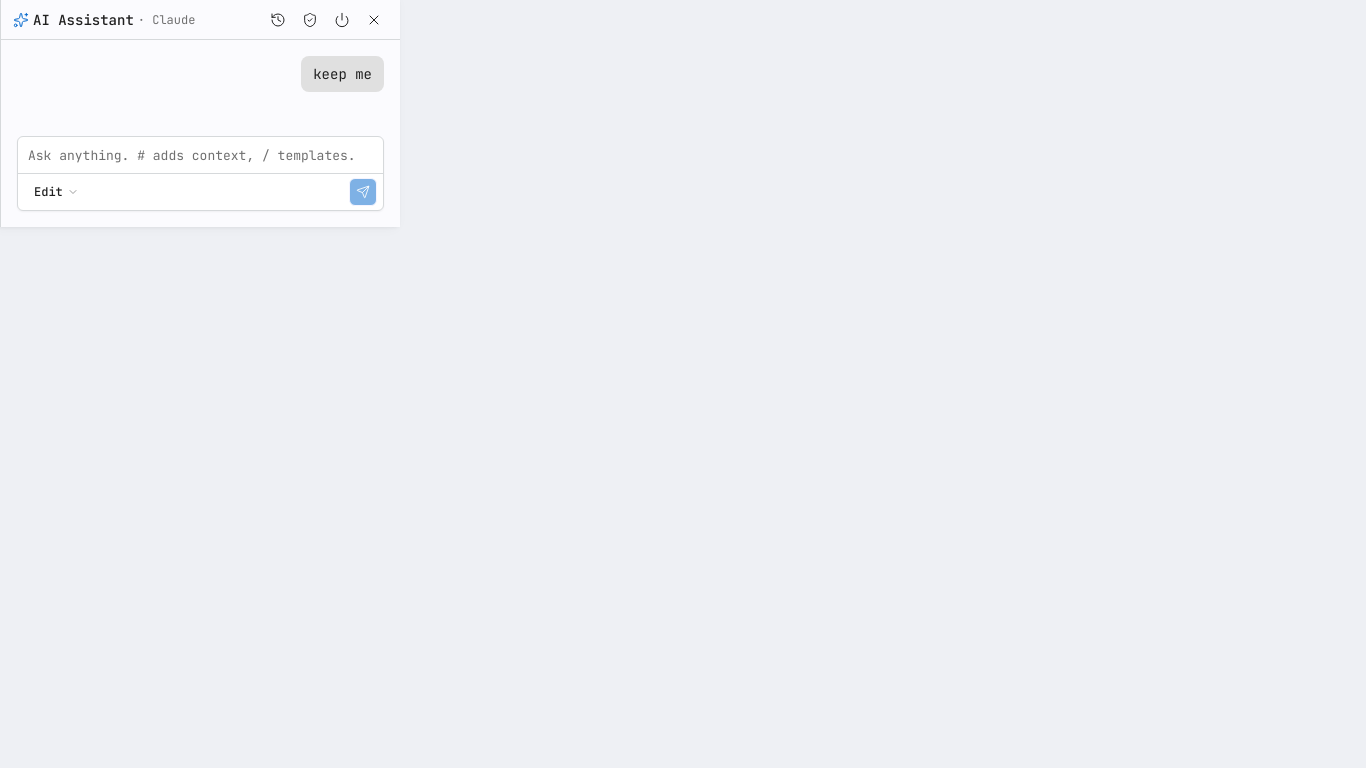
AssistantPanel › ends the session and keeps the transcript
Click the button named "End session": x=342, y=20 x1=328 y1=6 x2=356 y2=34
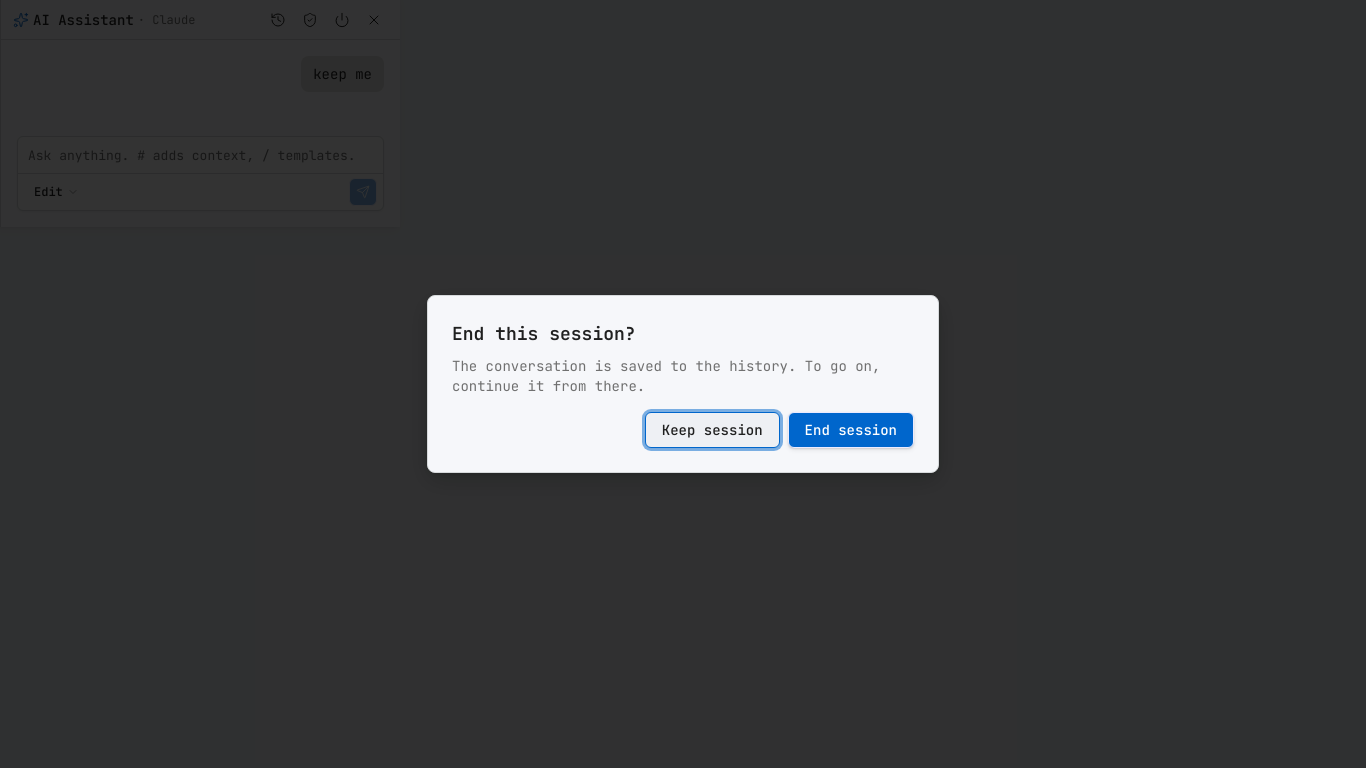
# The header button is hidden from the accessibility tree while the dialog is open.
Click the button "End session": x=851, y=430 x1=788 y1=412 x2=914 y2=448
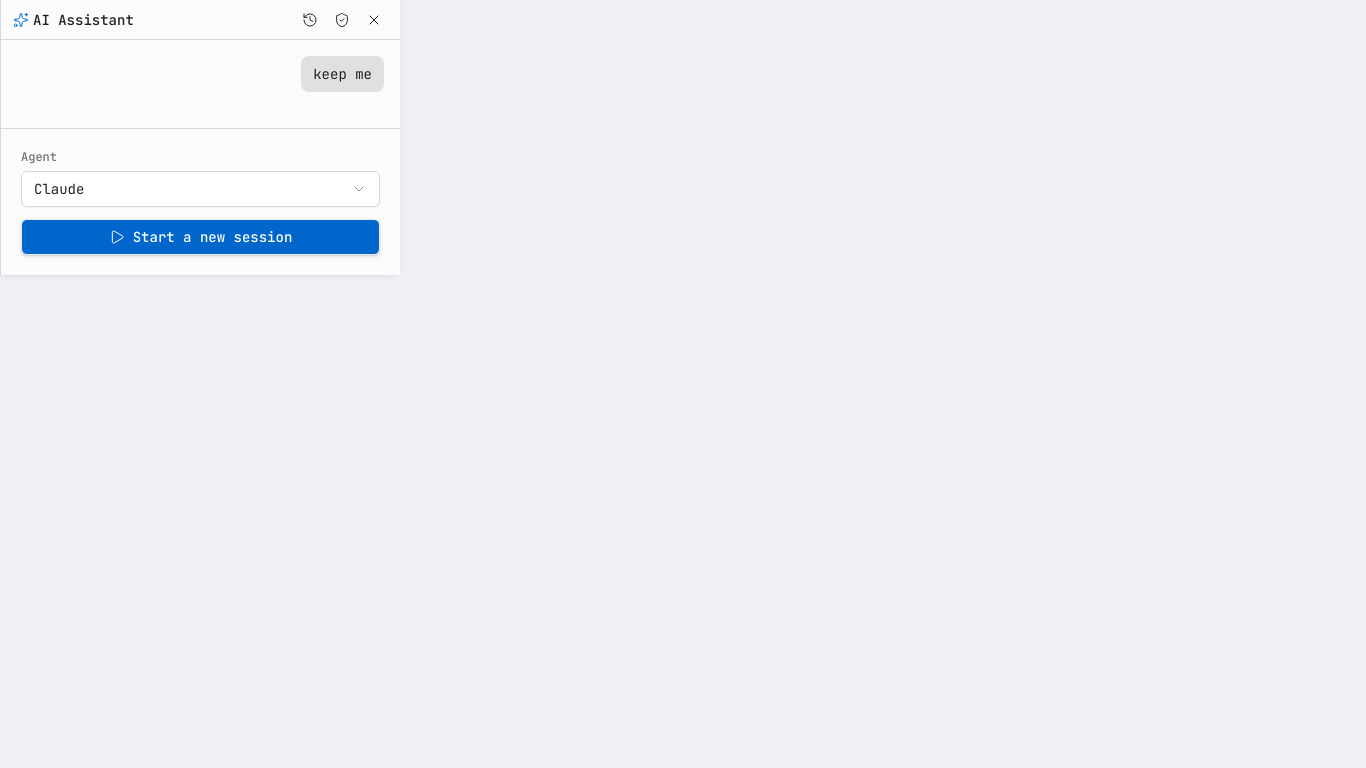
Expected: the text "keep me" is shown, x1=301 y1=56 x2=384 y2=92
Expected: the button "Start a new session" is shown, x1=21 y1=219 x2=380 y2=255
